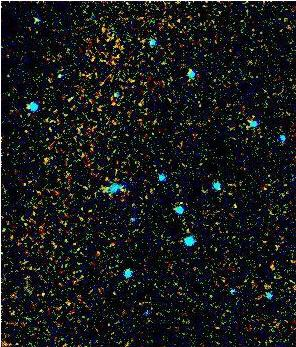star: (32, 283, 62, 313)
